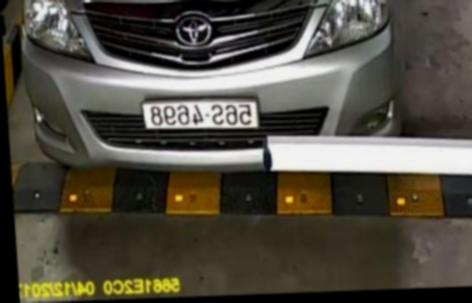License_Plate: (136, 96, 264, 132)
